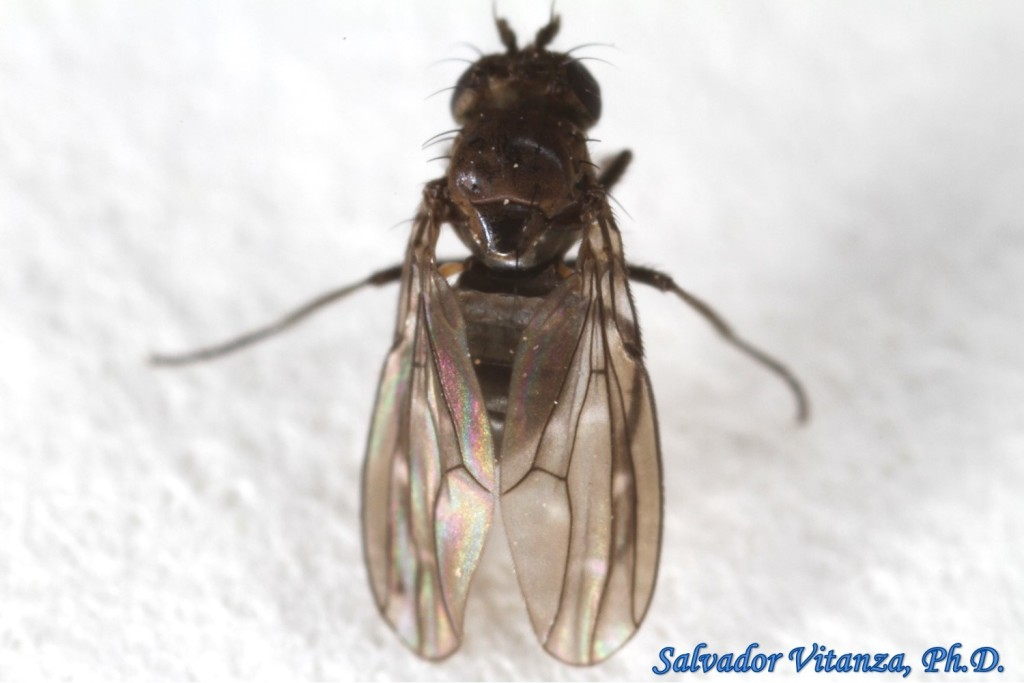Ephydridae: (149, 1, 819, 668)
